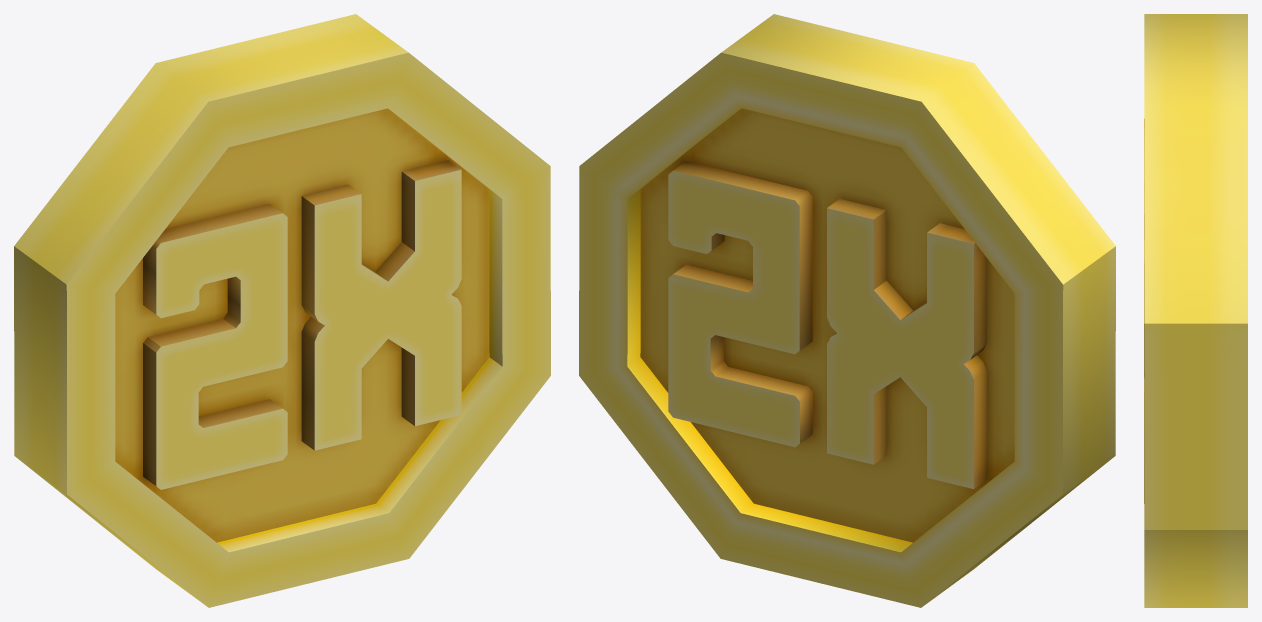
3 views of the same model, side by side, from view 1: azimuth 30°, elevation 25°; view 2: azimuth 150°, elevation 25°; view 3: azimuth 270°, elevation 25° (orthographic).
Parts seen in each view (by area): view 1: Coin_2X; view 2: Coin_2X; view 3: Coin_2X.
Boxes of the visible parts, x1=… form: Coin_2X: x1=14, y1=14, x2=550, y2=607; Coin_2X: x1=579, y1=14, x2=1115, y2=607; Coin_2X: x1=1144, y1=14, x2=1247, y2=607.
Bounding box in the file's own units: 41.98 × 41.98 × 7.94.
